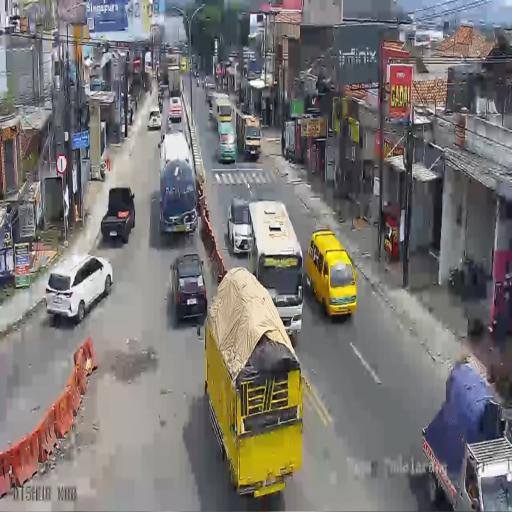car: (44, 252, 112, 324), (305, 227, 355, 321), (169, 253, 207, 323), (100, 186, 136, 242), (227, 195, 252, 253), (168, 95, 182, 121), (148, 109, 162, 130), (204, 76, 216, 97), (157, 86, 165, 113), (208, 96, 214, 120), (180, 58, 187, 72)
truck: (236, 110, 262, 162), (166, 47, 182, 98), (211, 91, 231, 130)
